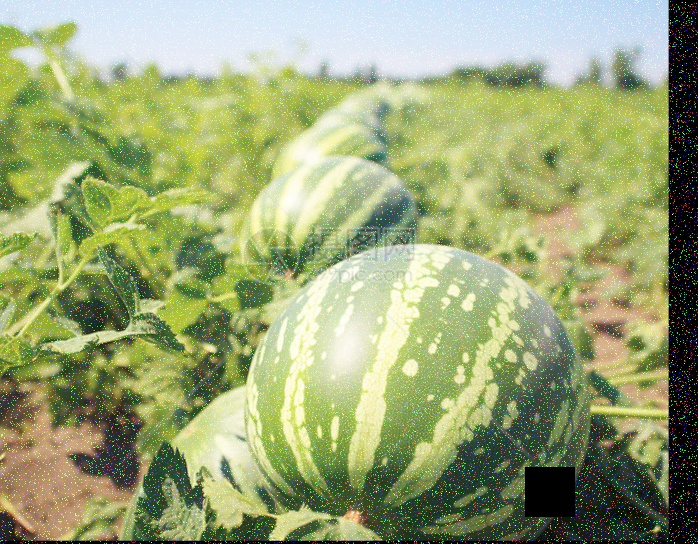watermelon: (241, 241, 582, 534), (243, 153, 415, 285)
